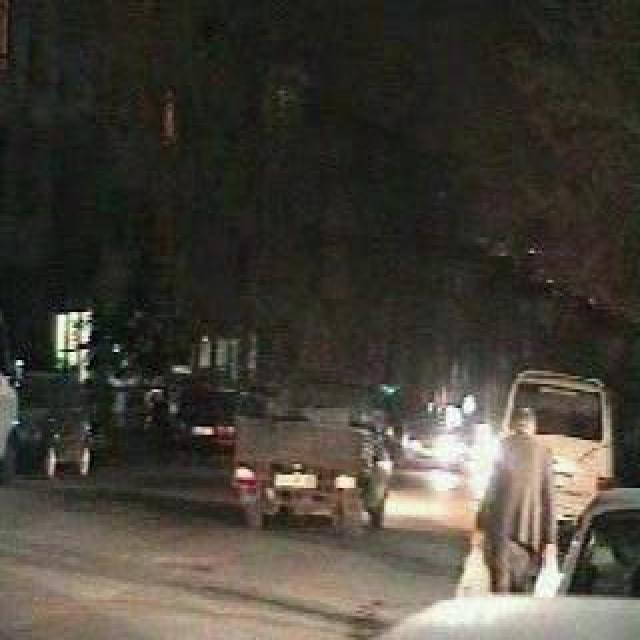other: (380, 390, 510, 536)
